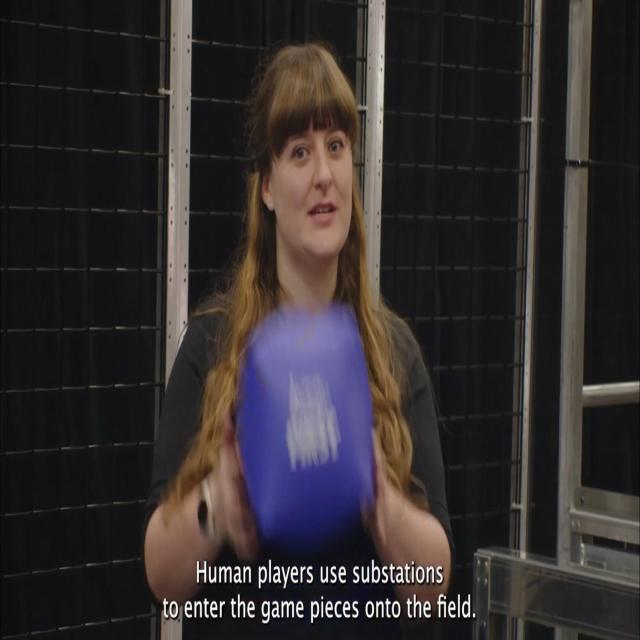frc_cube: (238, 306, 374, 548)
